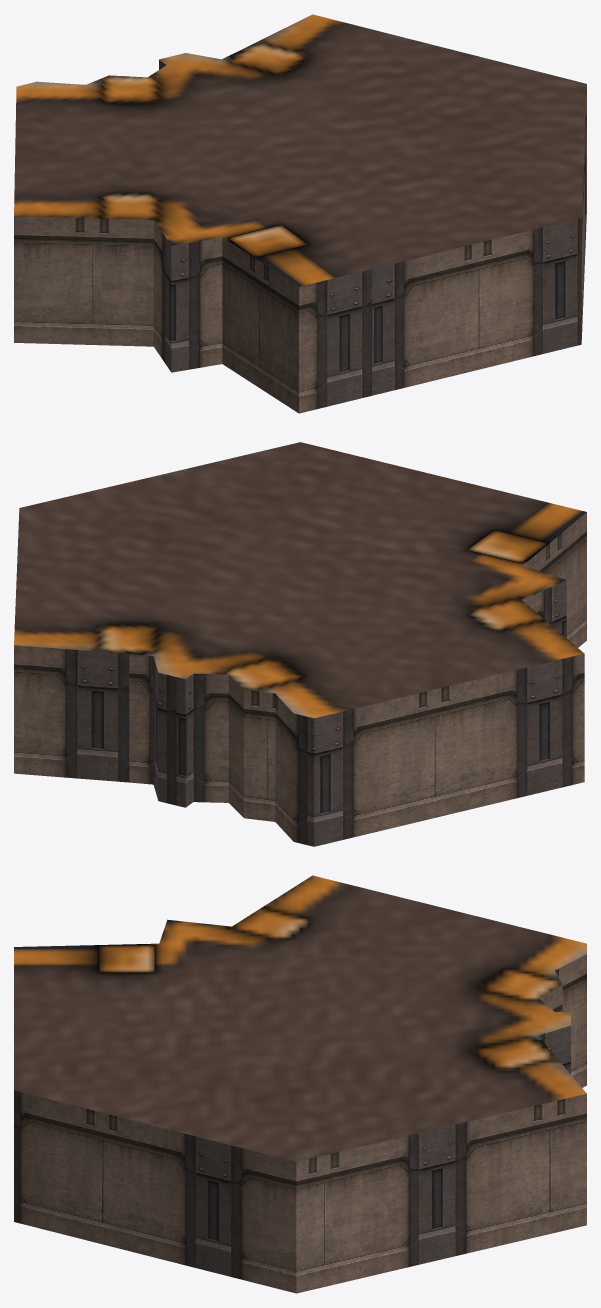
Rendered from heavy_roof46.glb.
The picture shows the model from 3 angles, top to bottom: view 1: azimuth 30°, elevation 25°; view 2: azimuth 150°, elevation 25°; view 3: azimuth 270°, elevation 25°; orthographic projection. The views are drawn at different scales.
Parts seen in each view (by area): view 1: buildings/saxarba/heavy/heavy_roof46; view 2: buildings/saxarba/heavy/heavy_roof46; view 3: buildings/saxarba/heavy/heavy_roof46.
Boxes of the visible parts, bbox=[...] form: buildings/saxarba/heavy/heavy_roof46: bbox=[14, 14, 586, 413]; buildings/saxarba/heavy/heavy_roof46: bbox=[14, 442, 586, 846]; buildings/saxarba/heavy/heavy_roof46: bbox=[14, 875, 586, 1293].
Size of the model in its own units: 84 by 18 by 71.
